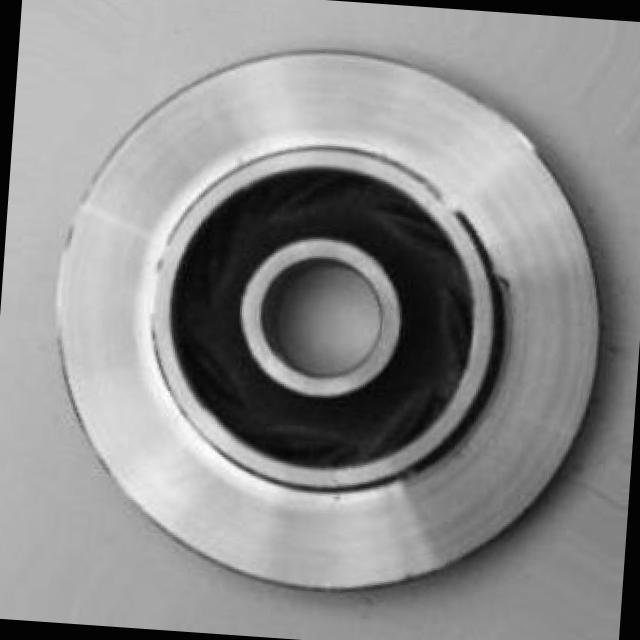Defect: (487, 258, 530, 304)
